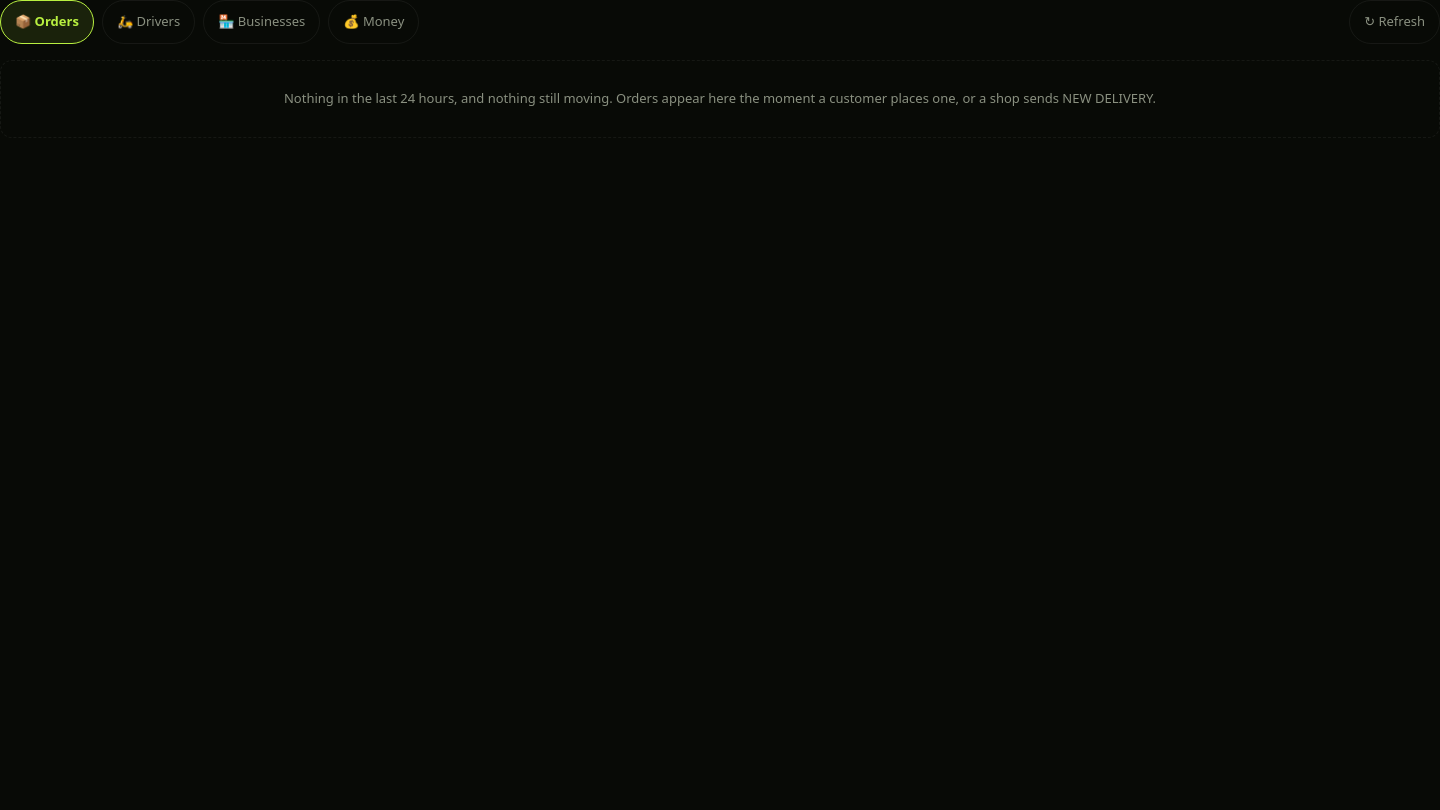
managing drivers and shops › adds a shop from the categories the API gives, and shows its join link
Click the button "🏪 Businesses" at (262, 22), box [203,0,320,44]
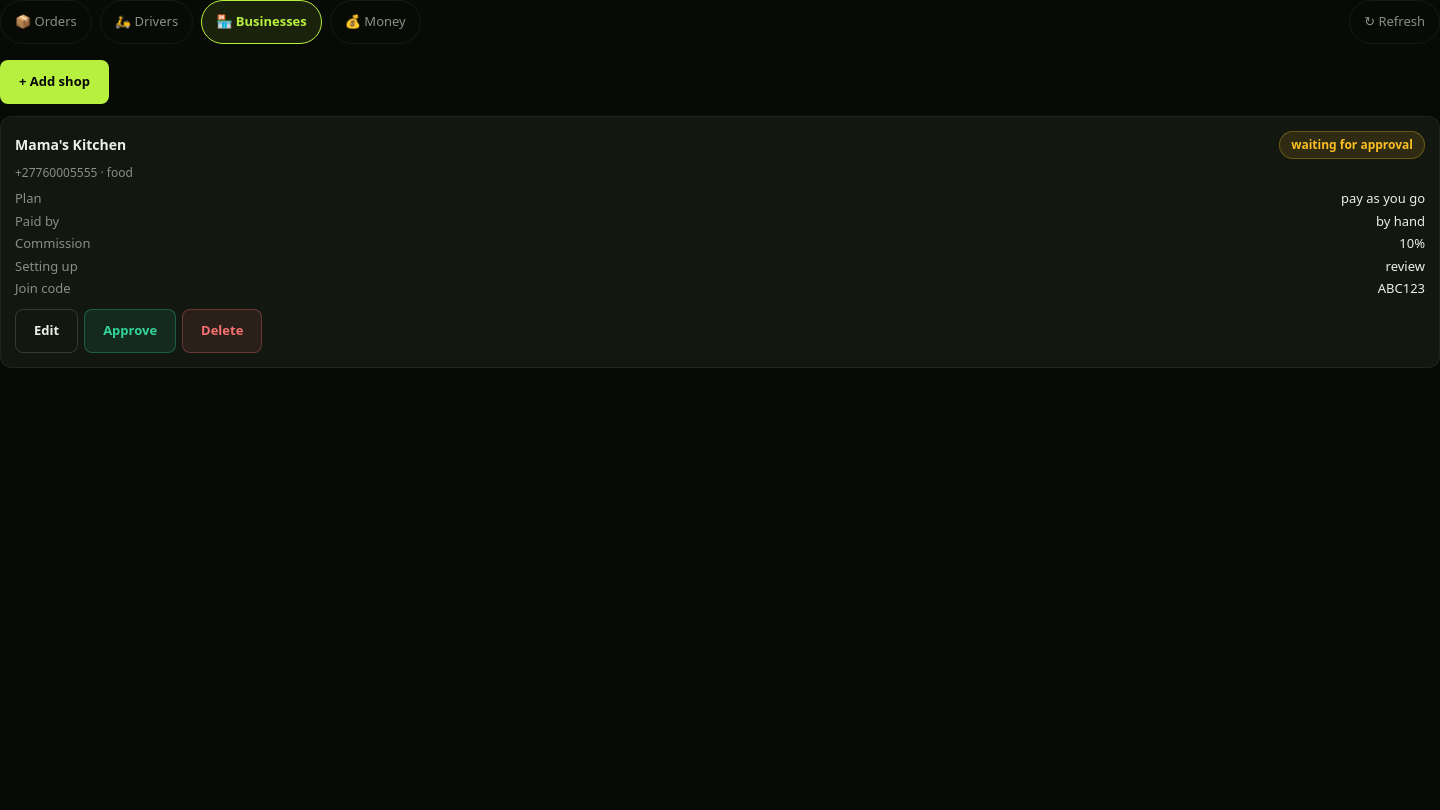
Click the button "+ Add shop" at (54, 82), box [0,60,109,104]
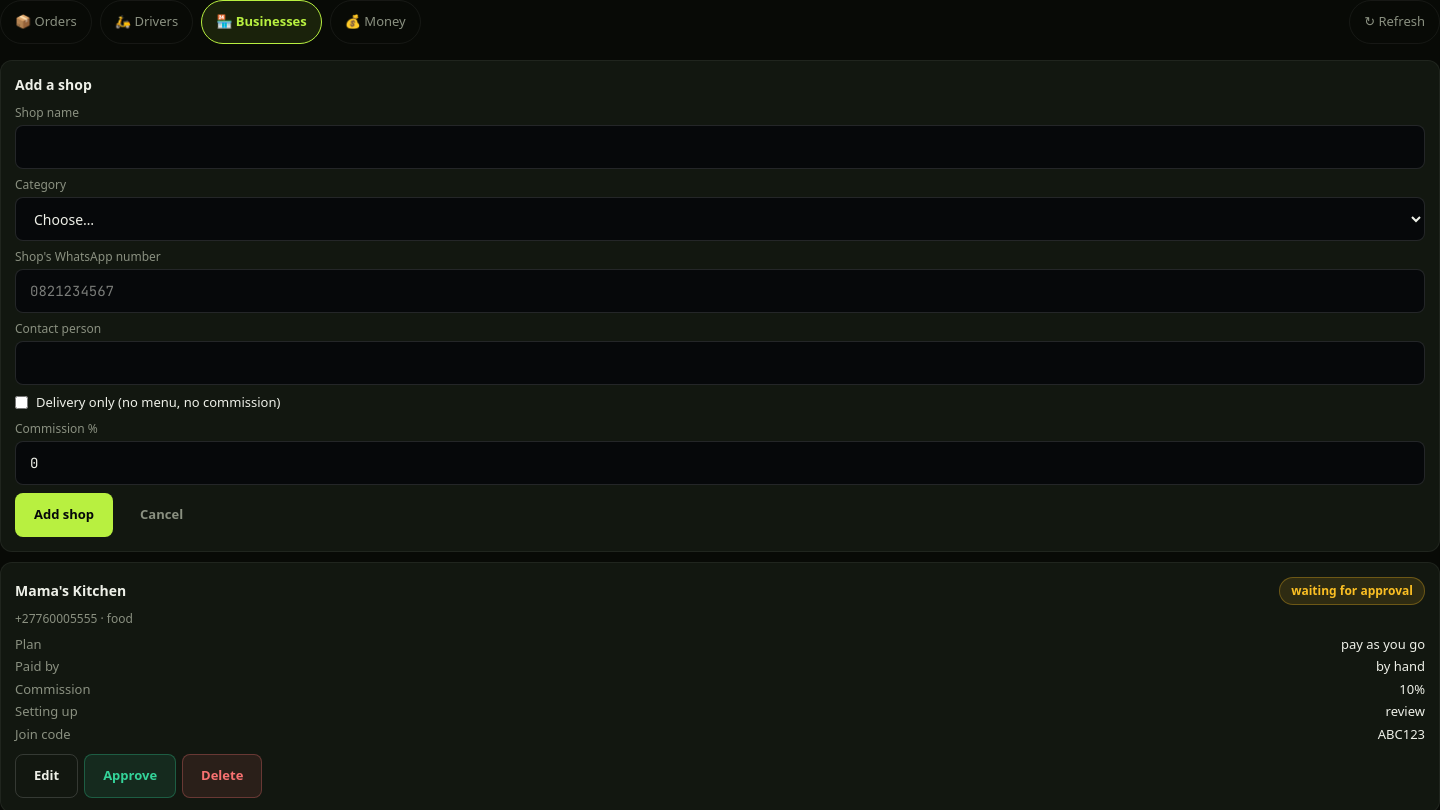
Type "Spaza One" into the field labelled "Shop name" at (720, 147), box [15,125,1425,169]
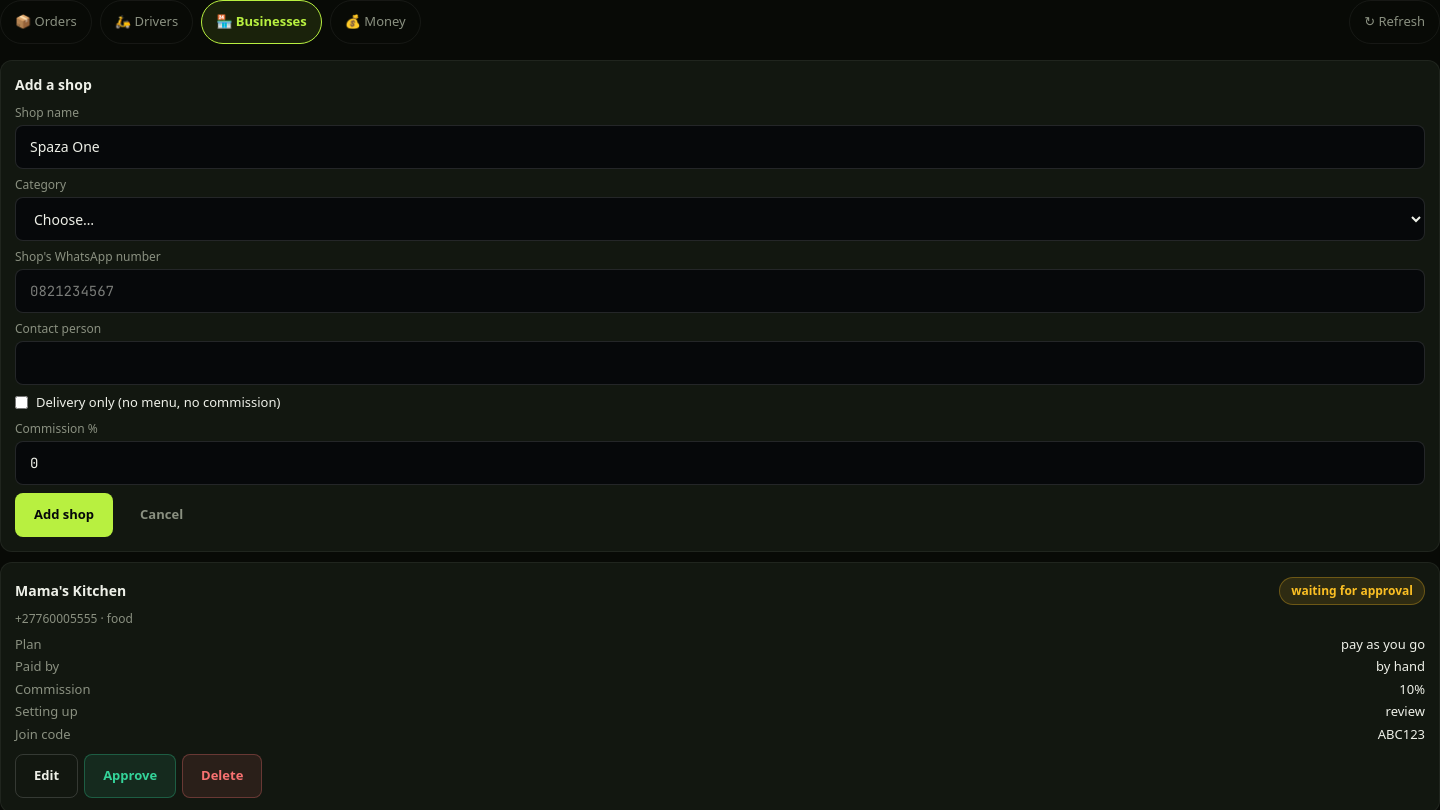
Select "Spaza & Convenience" in the dropdown labelled "Category" at (720, 219), box [15,197,1425,241]
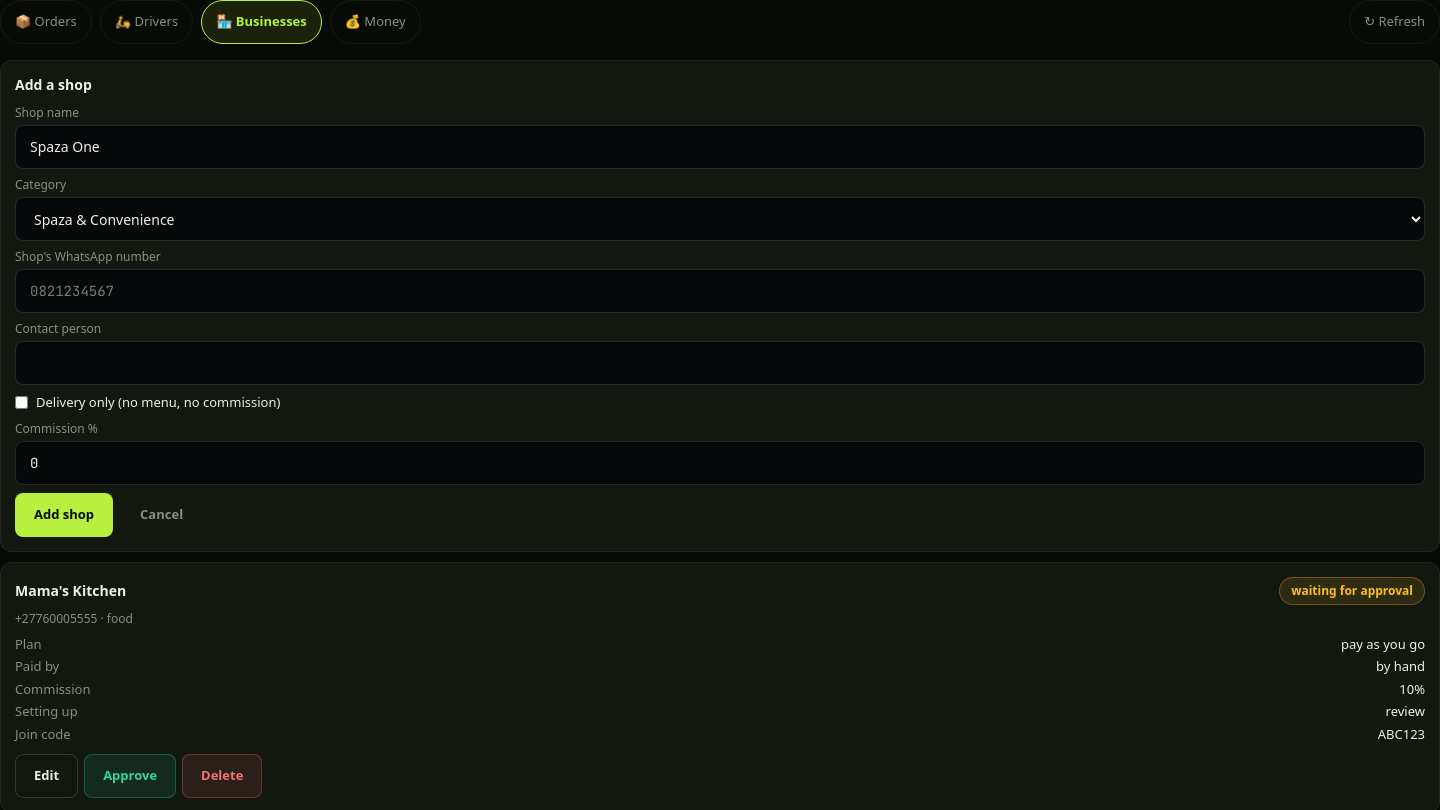
Type "0760006666" into the field named "Shop phone" at (720, 291), box [15,269,1425,313]
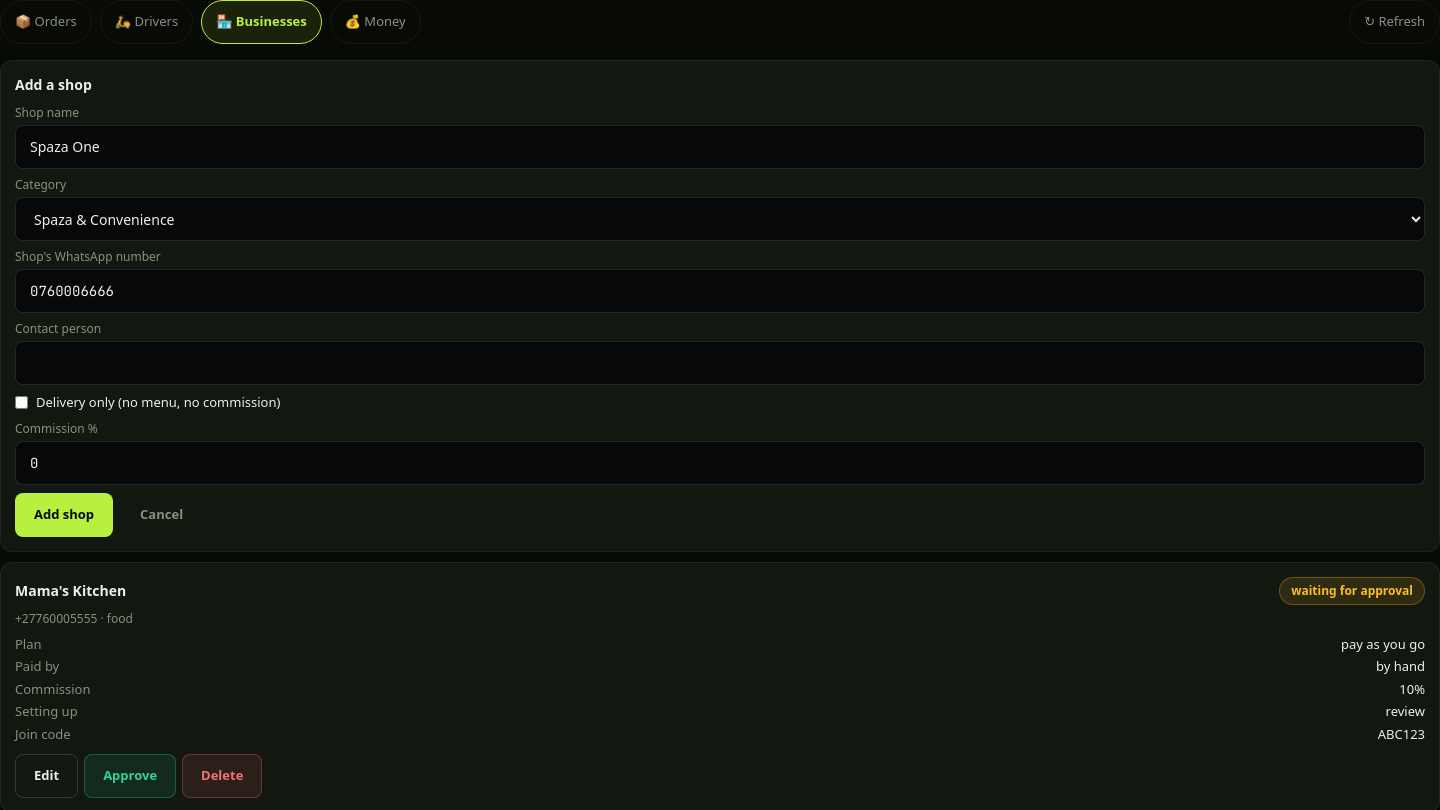
Click the button "Add shop" at (64, 514), box [15,492,113,536]
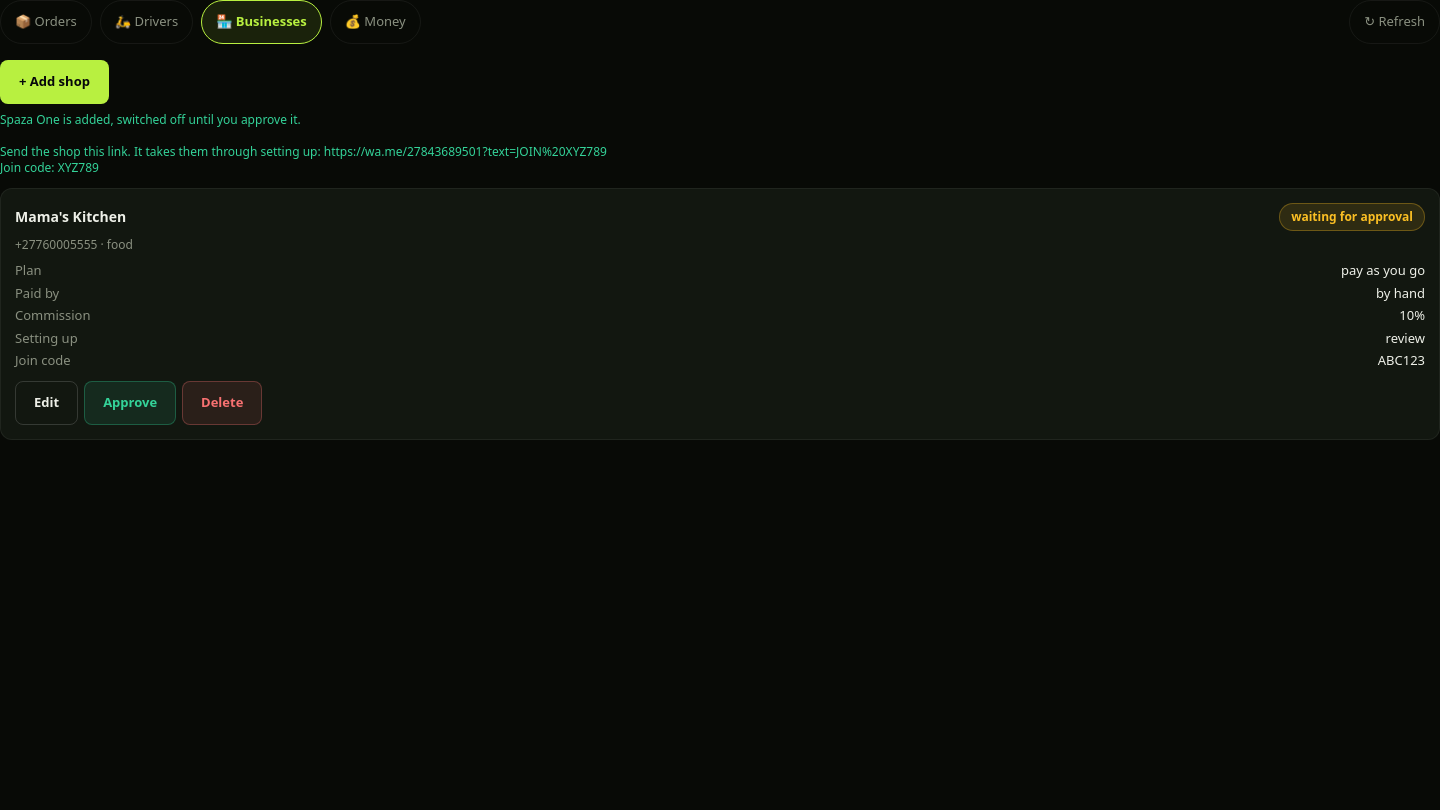
Now the text "Join code: XYZ789" is shown, box [0,111,607,176]
